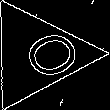O_SW: (0, 23, 75, 86)
